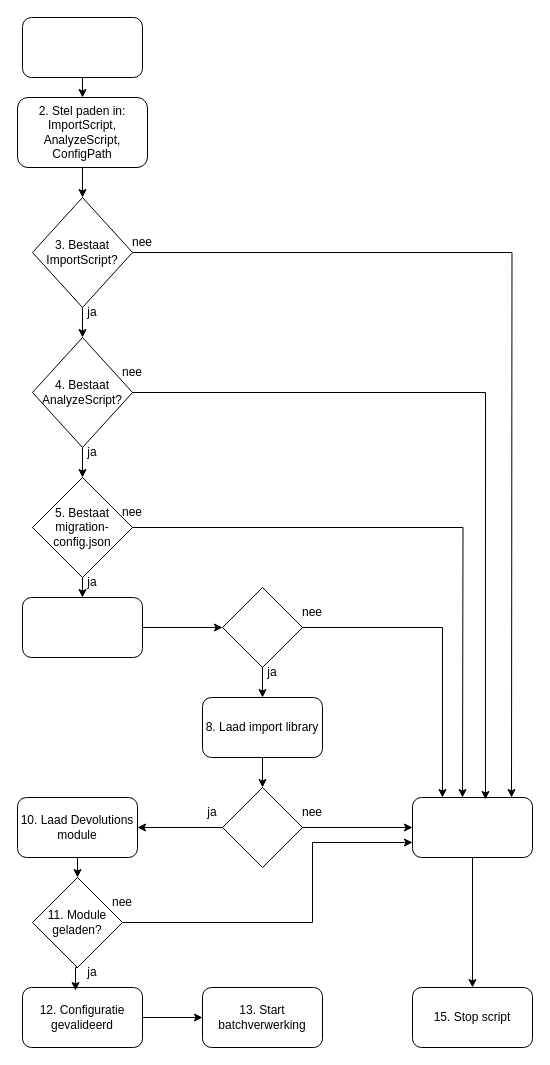
The diagram is 550 pixels wide and 1065 high, and some of its shapes have lost their labels. The centre of each missing label's shape, as x and y in pixels:
1. Start script: (x=82, y=47)
14. Geef foutmelding weer: (x=472, y=827)
6. Laad JSON-config (ConvertFrom-Json): (x=82, y=627)
7. JSON geldig?: (x=262, y=627)
9. Library geladen?: (x=262, y=827)
